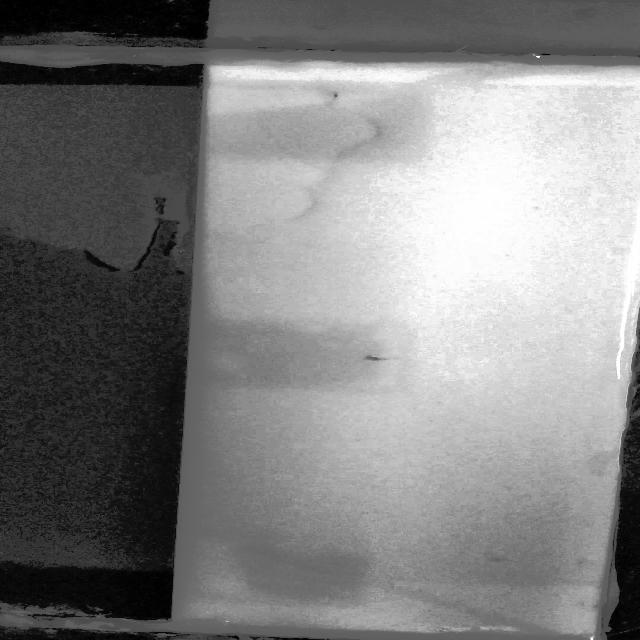shrimp: (356, 353, 408, 363), (487, 554, 517, 564), (325, 89, 345, 102)
